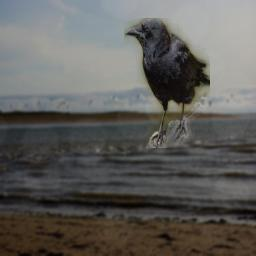Crow: (124, 18, 210, 148)
